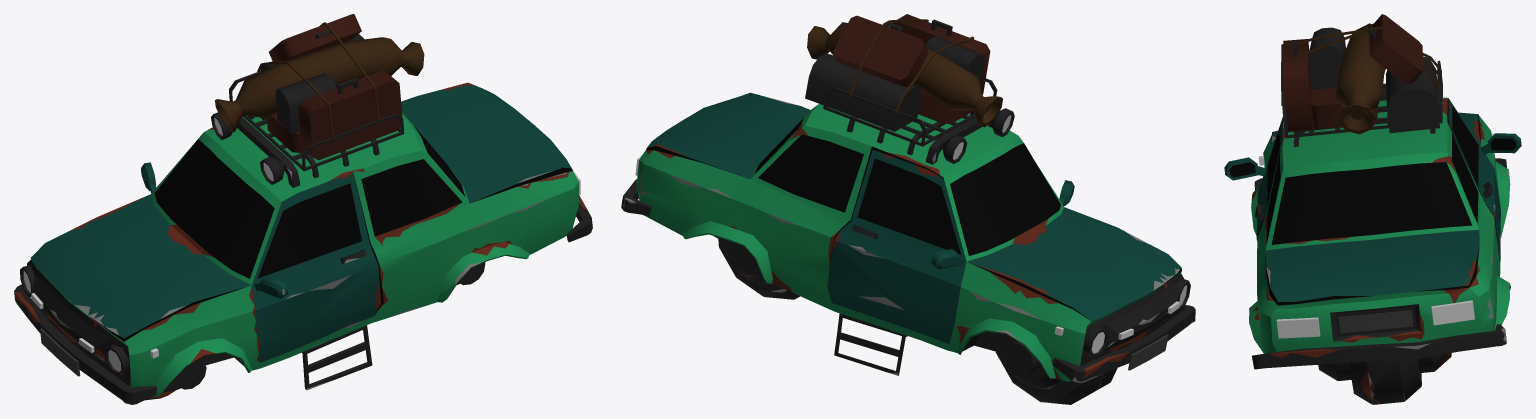
Rendered from OldCar.obj.
3 views of the same model, side by side, from view 1: azimuth 30°, elevation 25°; view 2: azimuth 150°, elevation 25°; view 3: azimuth 270°, elevation 25° (orthographic). The views are drawn at different scales.
Parts seen in each view (by area): view 1: car_Cube.004; view 2: car_Cube.004; view 3: car_Cube.004.
Part boxes in pixels (bbox=[...]): car_Cube.004: bbox=[14, 14, 592, 404]; car_Cube.004: bbox=[621, 14, 1195, 404]; car_Cube.004: bbox=[1224, 14, 1521, 404].
Size of the model in its own units: 19.06 by 12.45 by 9.32.
